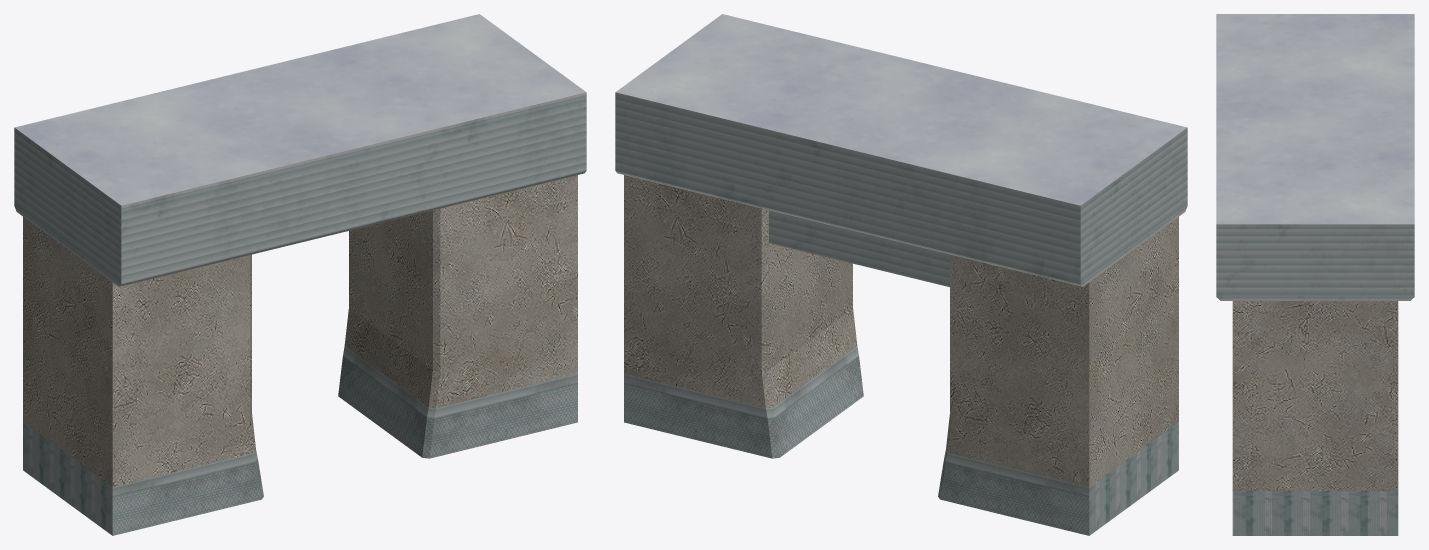
The model's file is MetroSeparatorDoors.fbx.
The picture shows the model from 3 angles, left to right: view 1: azimuth 30°, elevation 25°; view 2: azimuth 150°, elevation 25°; view 3: azimuth 270°, elevation 25°; orthographic projection. The views are drawn at different scales.
Parts seen in each view (by area): view 1: MetroSeparatorDoors; view 2: MetroSeparatorDoors; view 3: MetroSeparatorDoors.
Part boxes in pixels (left/top/right/bottom): MetroSeparatorDoors: left=14, top=14, right=586, bottom=535; MetroSeparatorDoors: left=615, top=14, right=1187, bottom=535; MetroSeparatorDoors: left=1216, top=14, right=1414, bottom=535.
Size of the model in its own units: 600 by 415 by 239.
4 materials, 4 textured.
